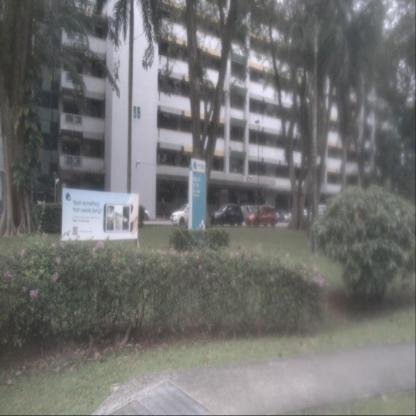human-pedestrian-adult: (161, 195, 166, 215)
movable_object-trafficcone: (163, 212, 166, 222)
vehicle-car: (171, 203, 202, 227), (210, 203, 242, 226), (245, 206, 278, 227), (122, 203, 150, 221), (238, 204, 257, 223), (275, 209, 290, 222)
